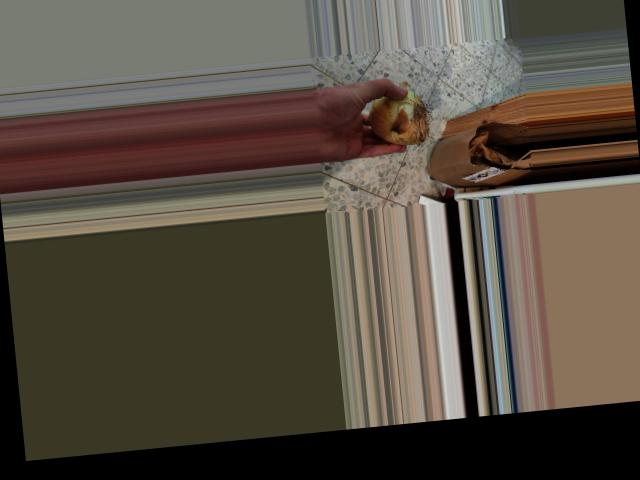onion: (359, 78, 432, 149)
